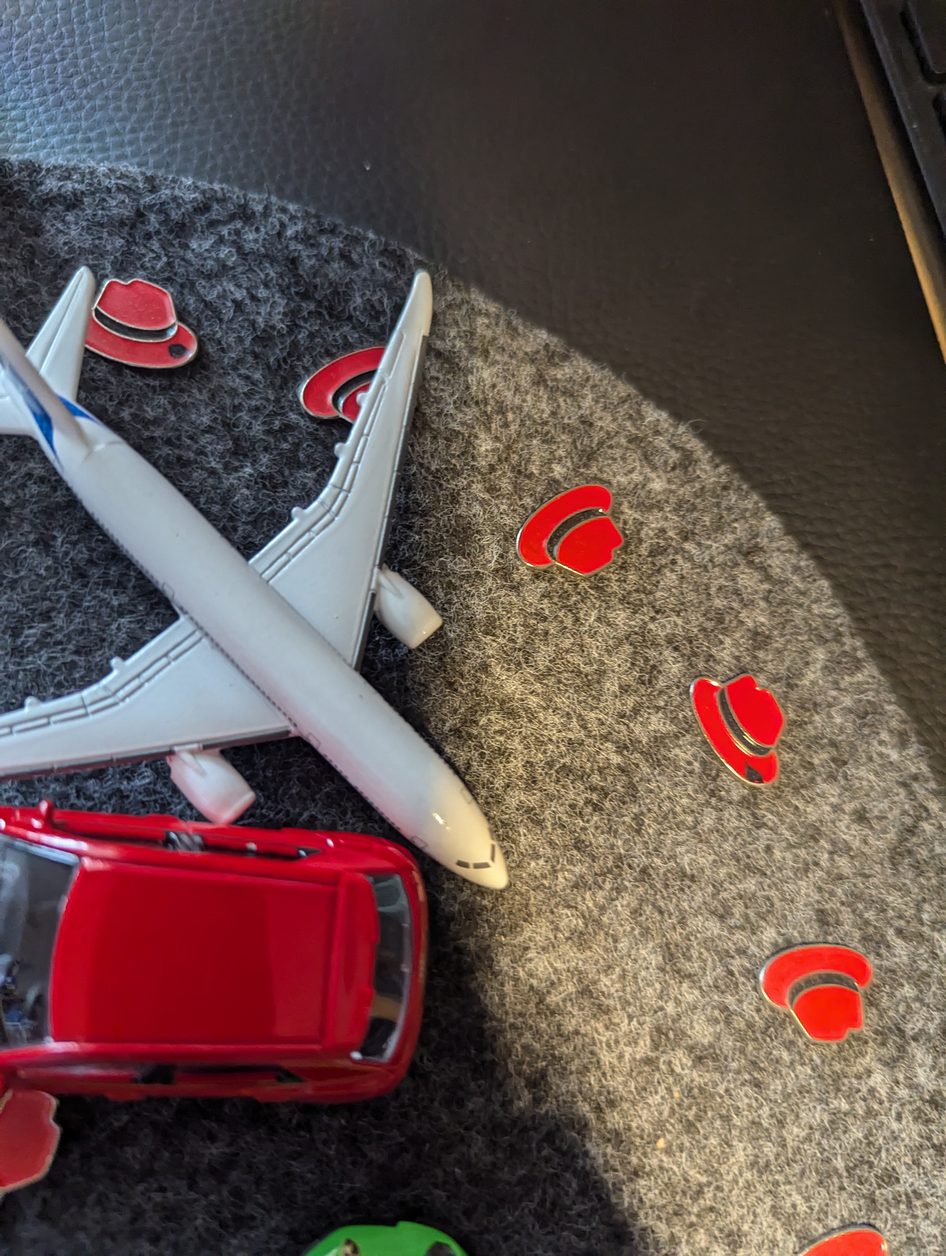Airplane: (0, 245, 527, 918)
Car: (0, 786, 450, 1112)
Red-Hat: (662, 639, 807, 800), (501, 455, 648, 597), (733, 928, 890, 1057), (277, 321, 418, 452), (49, 261, 209, 372)
Scratch: (720, 735, 781, 797), (156, 332, 195, 373)
